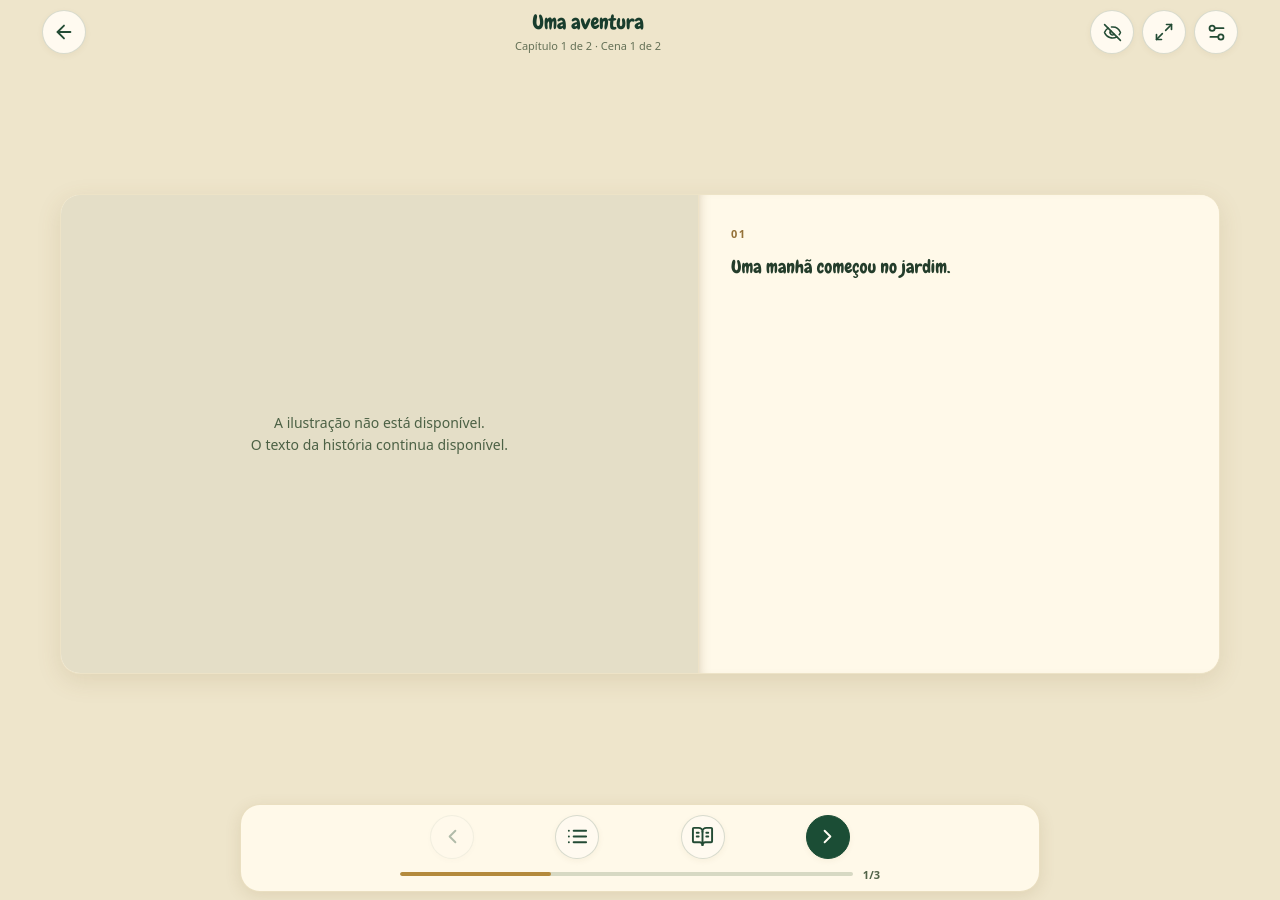
StoryReader › avança exclusivamente por ação manual, inclusive entre capítulos e no encerramento
Click the button named "Próxima cena".
click(828, 837)  # box [806, 815, 850, 859]
Wait 20000 ms
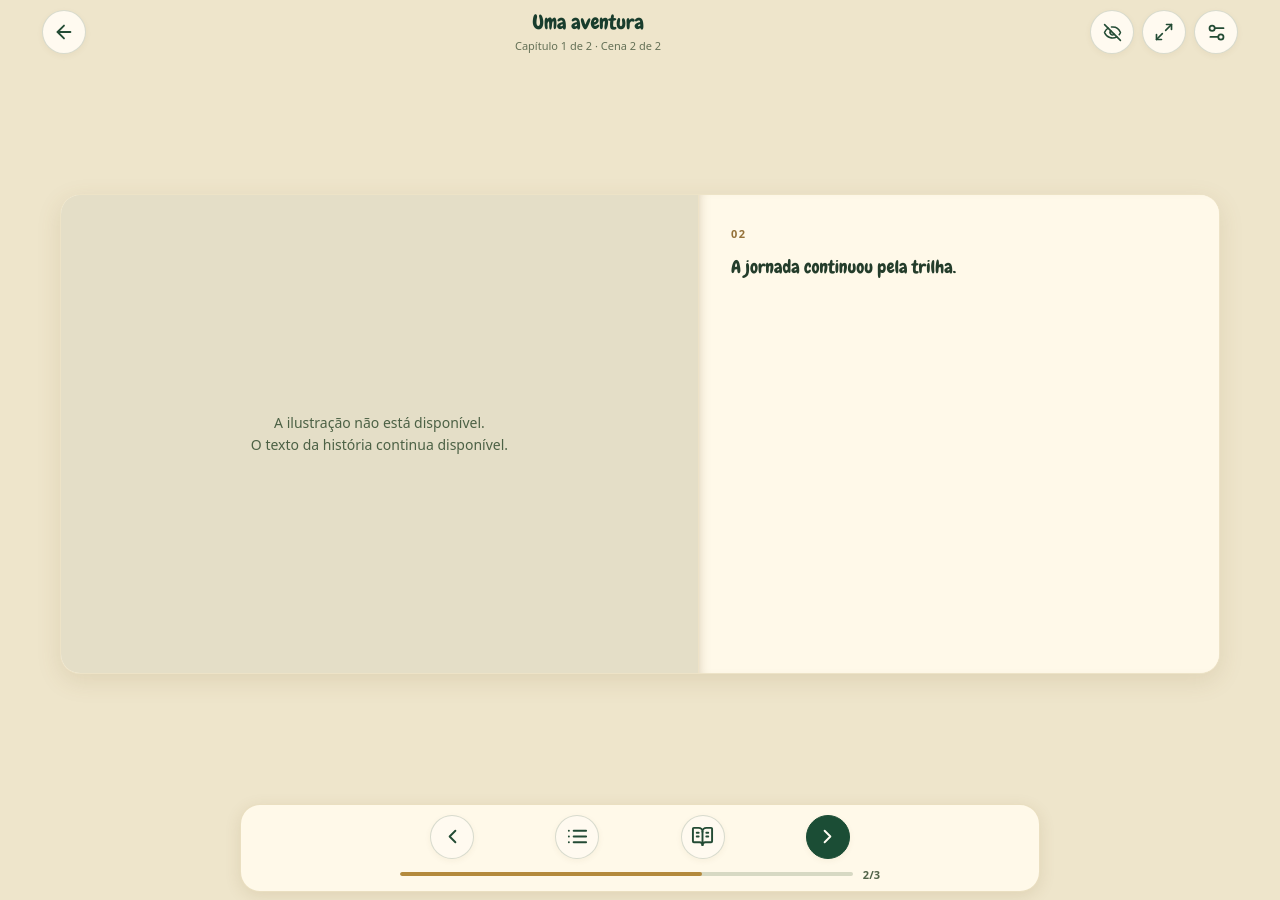
Result: the progress indicator named "Progresso da história" has attribute aria-valuenow="2" at [400, 872, 853, 876]
Click the button named "Próxima cena".
click(828, 837)  # box [806, 815, 850, 859]
Wait 20000 ms
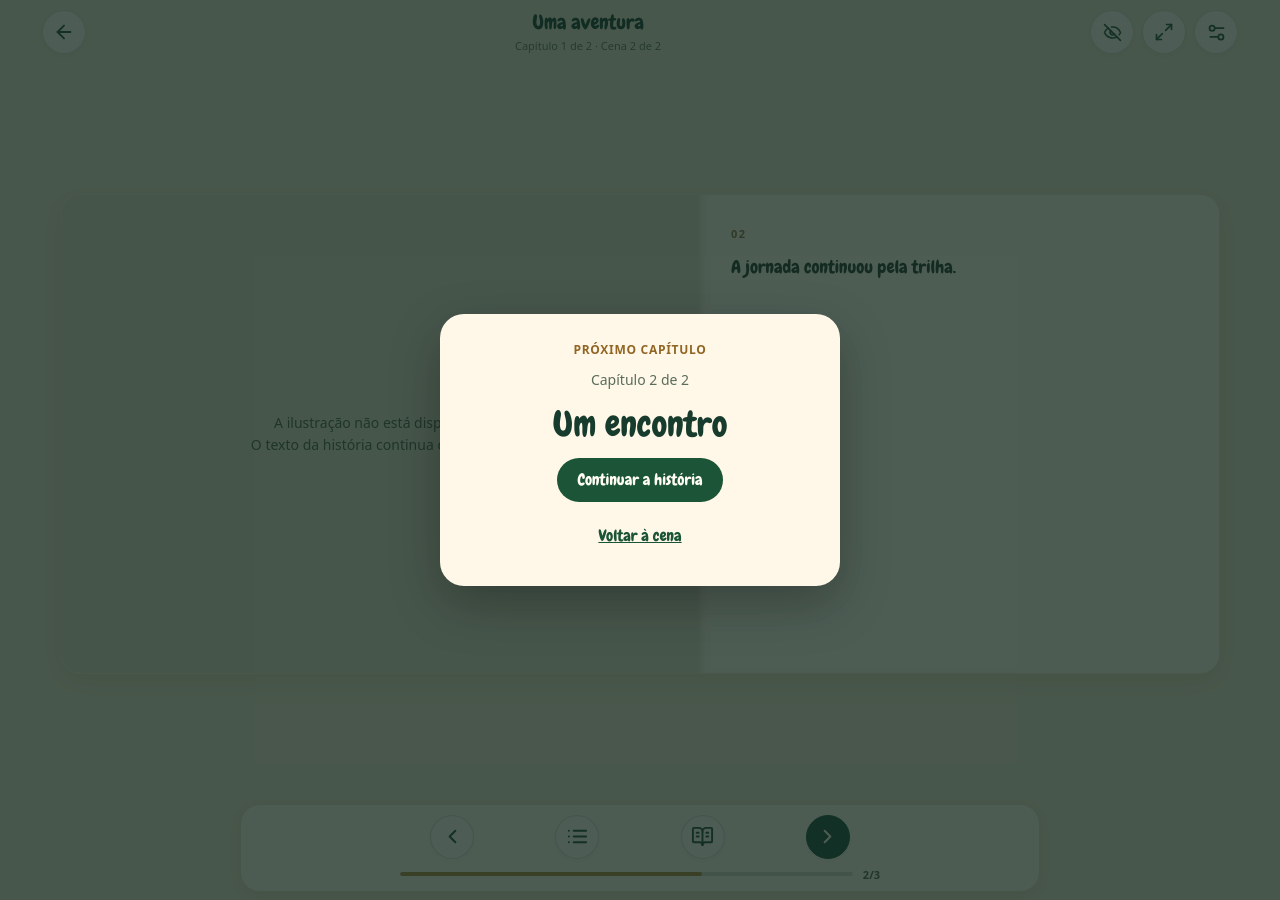
Result: the progress indicator named "Progresso da história" has attribute aria-valuenow="2" at [400, 872, 853, 876]
Click the button "Continuar a história".
click(640, 480)  # box [557, 458, 723, 502]
Wait 20000 ms
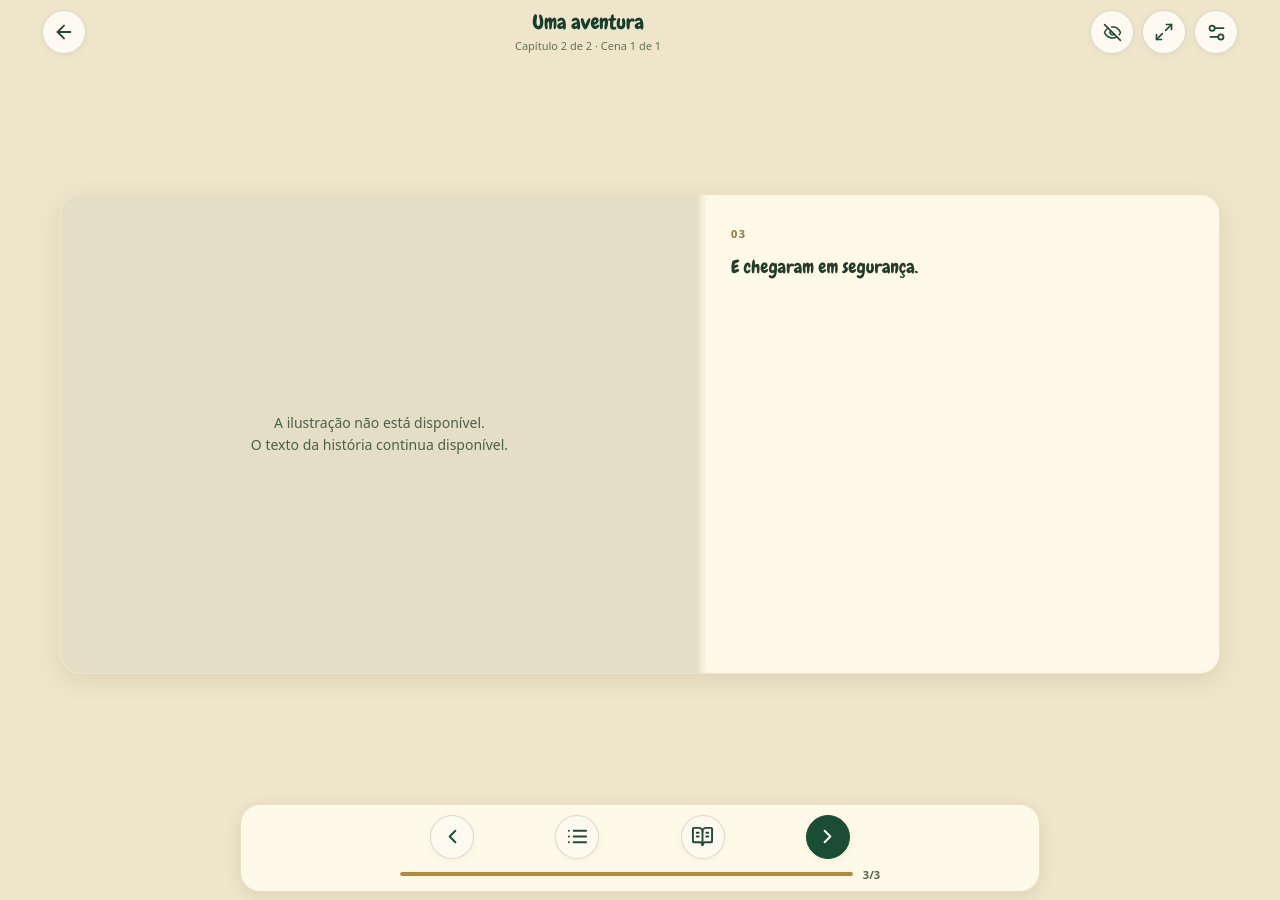
Expected: the dialog "E assim termina esta aventura." is not shown
Result: the progress indicator named "Progresso da história" has attribute aria-valuenow="3" at [400, 872, 853, 876]
Click the button named "Concluir história".
click(828, 837)  # box [806, 815, 850, 859]
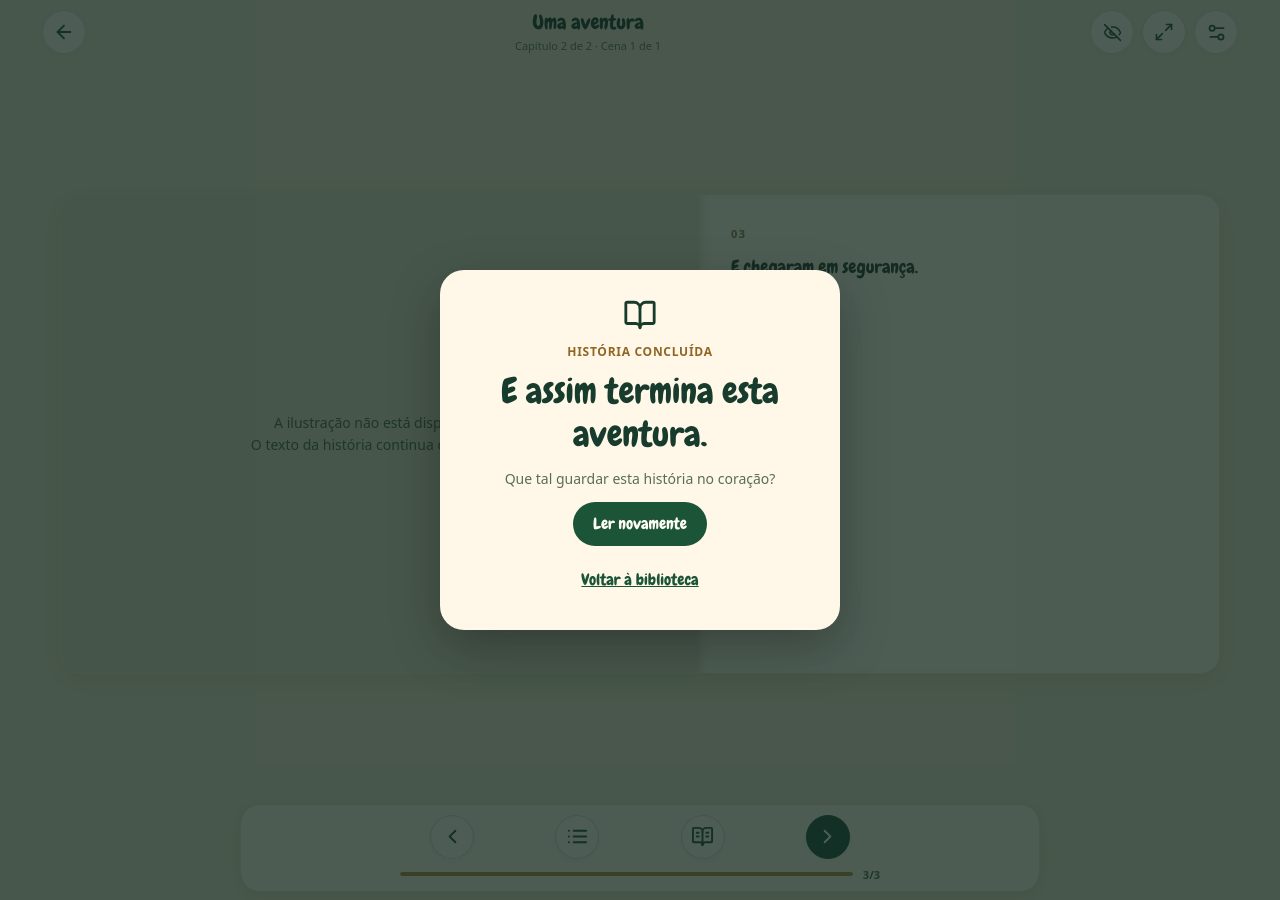
Result: the dialog "E assim termina esta aventura." is shown
